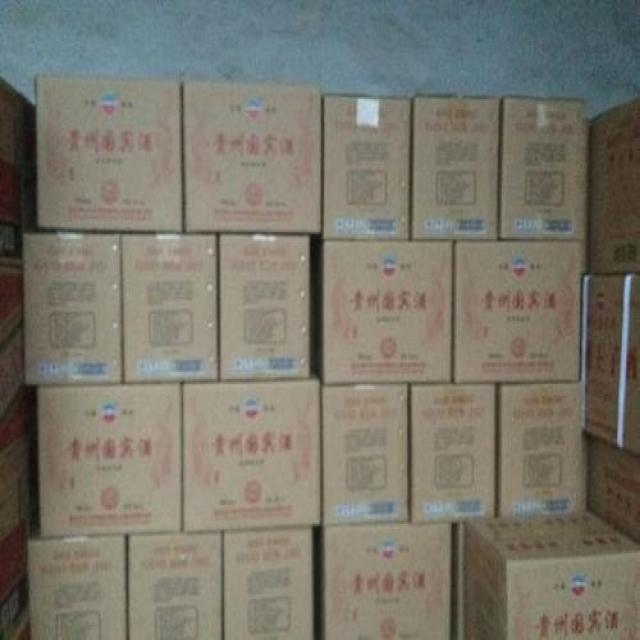box: (465, 504, 638, 637), (177, 78, 322, 235), (36, 384, 183, 538), (37, 78, 185, 230), (182, 376, 322, 531), (309, 239, 455, 383), (452, 237, 580, 382), (22, 230, 123, 387), (321, 520, 453, 638), (121, 230, 220, 383), (216, 230, 311, 379), (410, 97, 501, 239), (321, 383, 412, 524), (322, 97, 412, 237), (502, 96, 586, 237), (412, 382, 496, 520), (495, 382, 581, 513), (28, 532, 129, 638), (580, 271, 639, 452), (127, 532, 225, 638), (222, 527, 315, 638), (584, 97, 639, 273), (0, 429, 43, 638), (0, 262, 39, 449), (580, 428, 639, 548), (1, 72, 35, 265), (450, 518, 466, 638), (9, 619, 28, 636)
